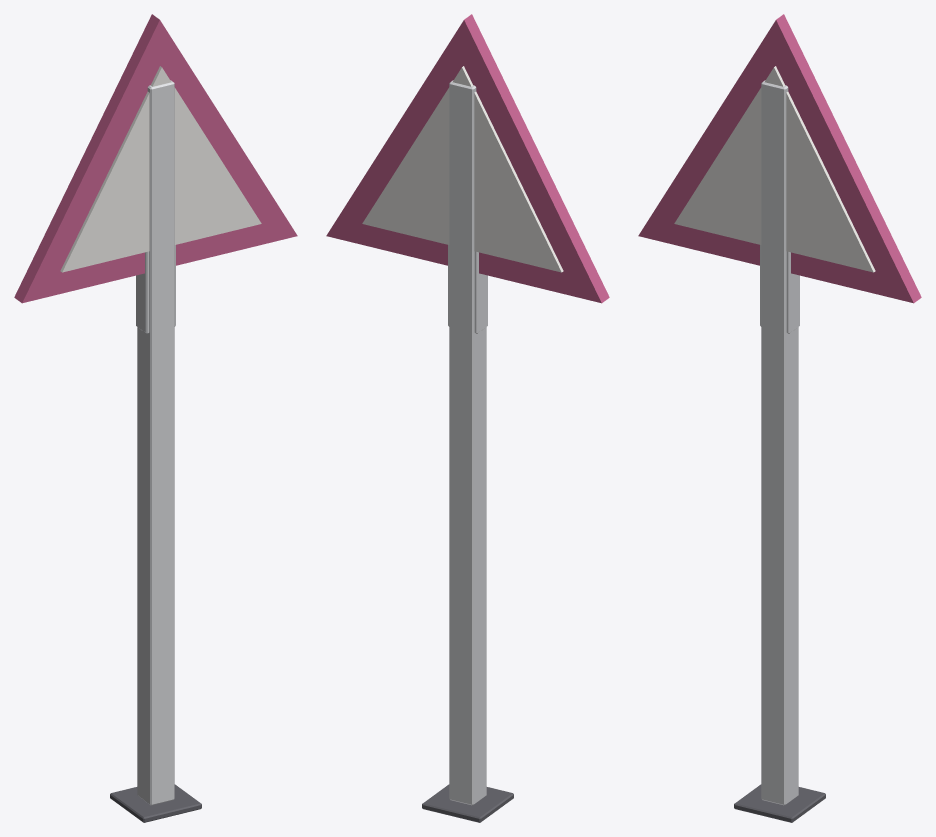
File: motorway-services-and-truck-park-queue-warning-sign-d46f3268__35973.glb
3 views of the same model, side by side, from view 1: azimuth 30°, elevation 25°; view 2: azimuth 150°, elevation 25°; view 3: azimuth 330°, elevation 25° (orthographic).
Visible parts, largest first — view 1: queue-warning-sign; view 2: queue-warning-sign; view 3: queue-warning-sign.
Part boxes in pixels (x1=…): queue-warning-sign: x1=14, y1=14, x2=297, y2=822; queue-warning-sign: x1=326, y1=14, x2=609, y2=822; queue-warning-sign: x1=638, y1=14, x2=921, y2=822.
Size of the model in its own units: 1 by 2.74 by 0.216.
